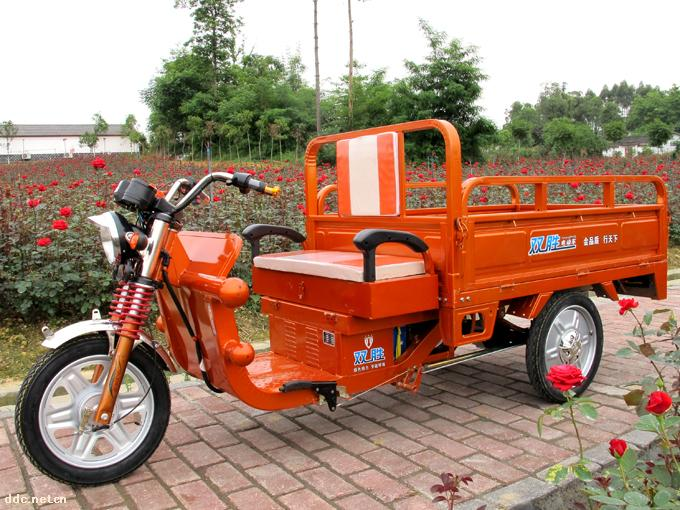MNV: (16, 118, 668, 486)
